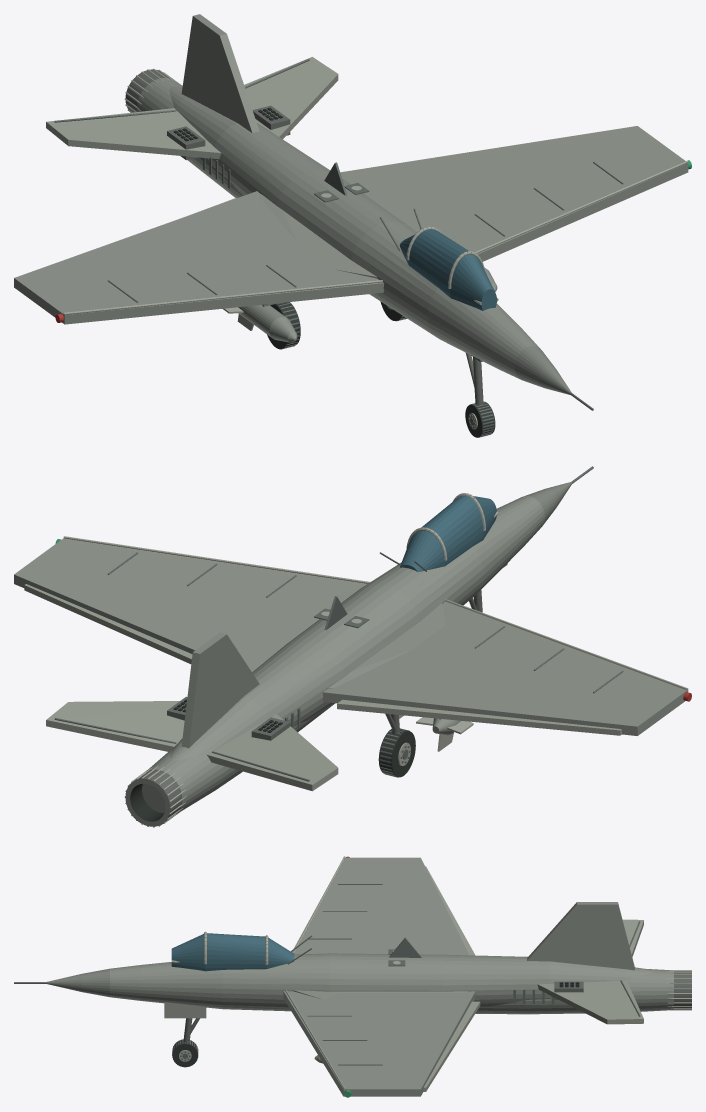
Rendered from spheres-air-light-attack.glb.
3 renders of one model, top to bottom at view 1: azimuth 30°, elevation 25°; view 2: azimuth 150°, elevation 25°; view 3: azimuth 270°, elevation 25°, orthographic. The views are drawn at different scales.
Visible parts, largest first — view 1: Spheres light attack aircraft; view 2: Spheres light attack aircraft; view 3: Spheres light attack aircraft.
Part boxes in pixels (bbox=[...]): Spheres light attack aircraft: bbox=[14, 14, 691, 437]; Spheres light attack aircraft: bbox=[14, 466, 691, 827]; Spheres light attack aircraft: bbox=[14, 856, 691, 1097].
Size of the model in its own units: 10.44 by 3.35 by 12.73.
